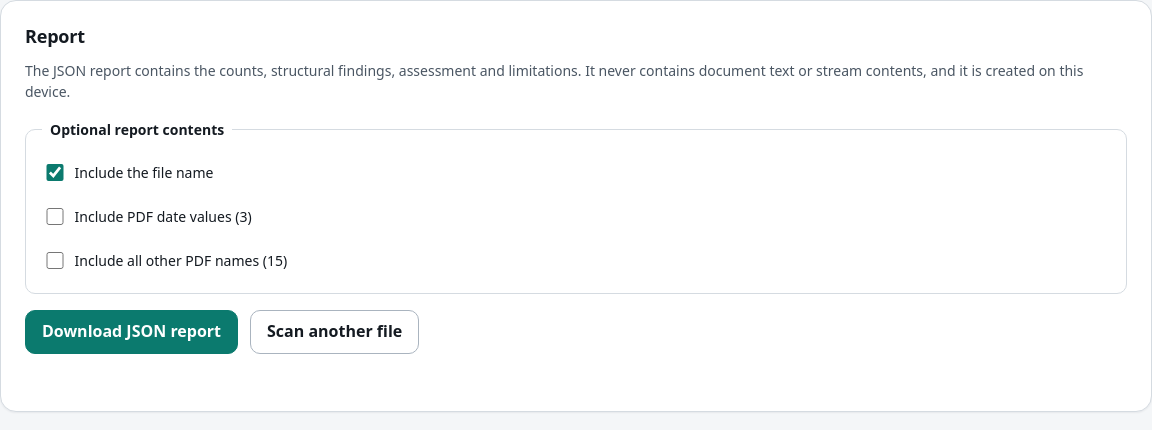
ReportActions › reports a failed download
Click the button "Download JSON report" at (132, 332), box [25, 310, 238, 354]
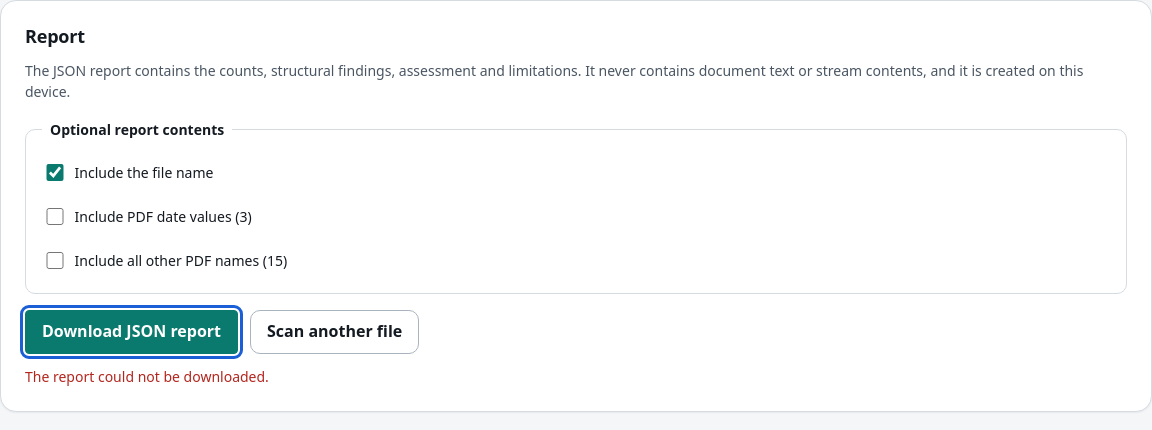
Expected: the message with test id "report-status" reads "The report could not be downloaded.", [25, 367, 269, 386]
